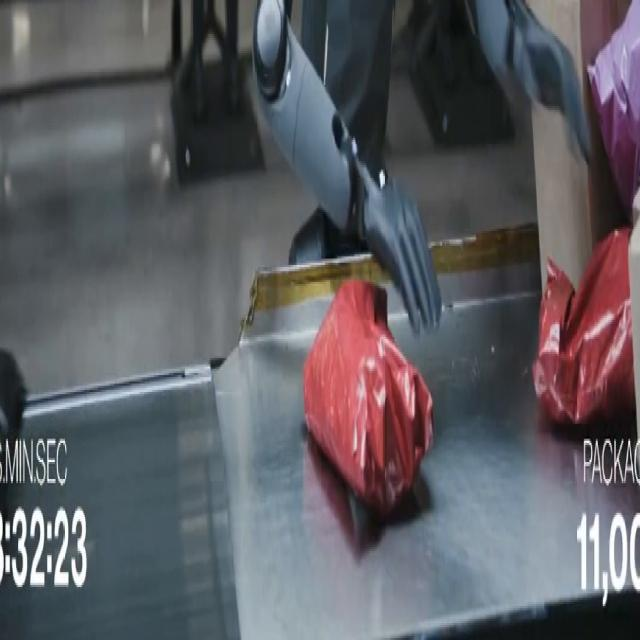package: (303, 280, 432, 517), (528, 0, 630, 286), (533, 229, 635, 425), (589, 0, 639, 216), (629, 225, 639, 324)
